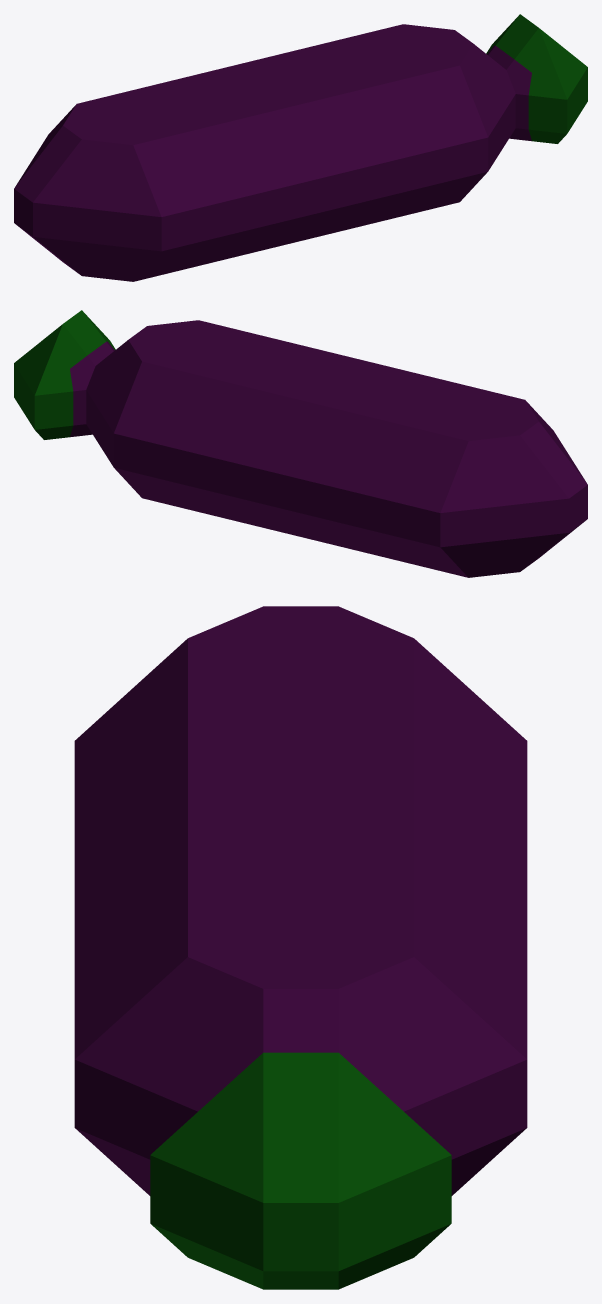
Rendered from Game_eggplant.fbx.
The picture shows the model from 3 angles, top to bottom: view 1: azimuth 30°, elevation 25°; view 2: azimuth 150°, elevation 25°; view 3: azimuth 270°, elevation 25°; orthographic projection. The views are drawn at different scales.
Visible parts, largest first — view 1: eggplant_mc; view 2: eggplant_mc; view 3: eggplant_mc.
Boxes of the visible parts, <box> form: eggplant_mc: <box>14,14,587,281</box>; eggplant_mc: <box>14,310,587,577</box>; eggplant_mc: <box>74,606,527,1289</box>.
Size of the model in its own units: 1.7 by 0.4 by 0.6.
